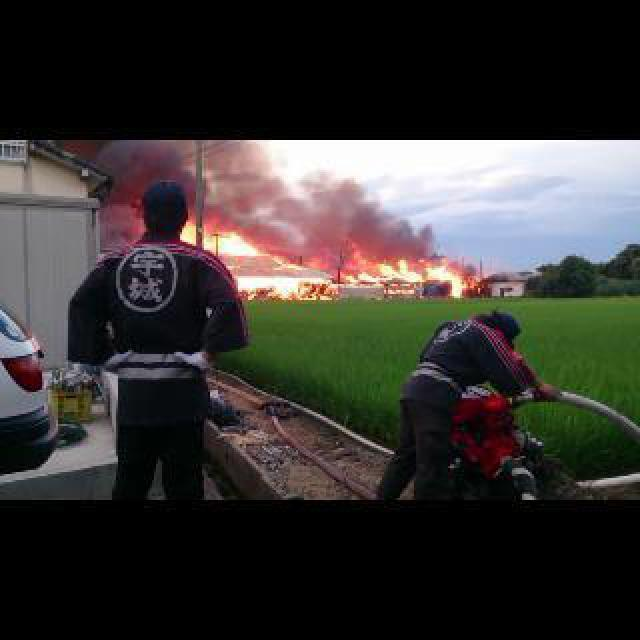Fire: (342, 260, 474, 296), (182, 224, 264, 254), (234, 276, 336, 298), (274, 254, 310, 268)
Smoke: (251, 168, 421, 256)
